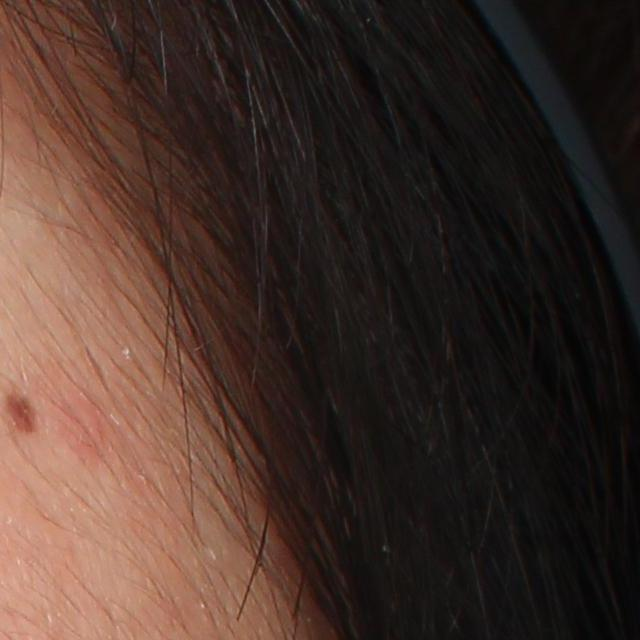nevus: (3, 389, 47, 436)
